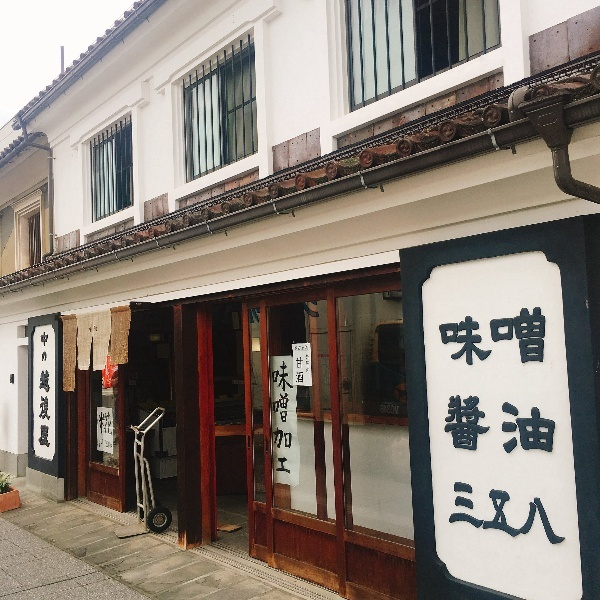text: (273, 361, 288, 477), (449, 390, 464, 463), (465, 390, 480, 463), (481, 390, 496, 463), (497, 390, 512, 463), (513, 390, 528, 463), (529, 390, 544, 463), (465, 480, 480, 547), (481, 480, 496, 547), (497, 480, 512, 547), (513, 480, 528, 547), (529, 480, 544, 547), (545, 480, 560, 547), (545, 390, 558, 463), (449, 305, 464, 368), (465, 305, 480, 368), (481, 305, 496, 368), (497, 305, 512, 368), (513, 305, 528, 368), (529, 305, 544, 368), (40, 332, 48, 449), (289, 361, 297, 477), (438, 305, 448, 368), (455, 480, 464, 547), (561, 480, 570, 547), (99, 411, 112, 436), (306, 354, 320, 373), (49, 332, 51, 449), (296, 357, 304, 384), (385, 404, 399, 415), (545, 305, 547, 368), (105, 368, 112, 386), (99, 439, 112, 448), (271, 361, 272, 477), (447, 390, 448, 463), (295, 345, 304, 351), (107, 440, 112, 449), (380, 404, 384, 415), (305, 345, 309, 351), (111, 444, 112, 449)
